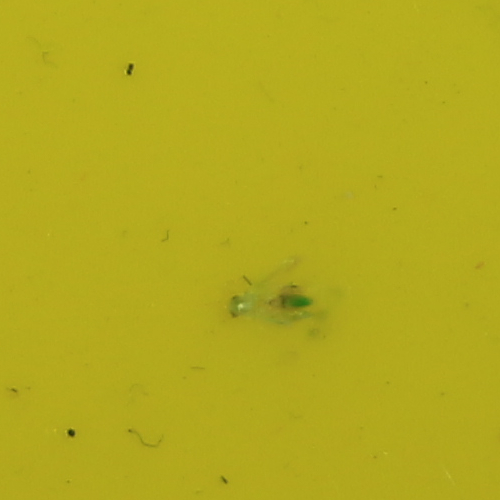psylla: (225, 290, 313, 317)
